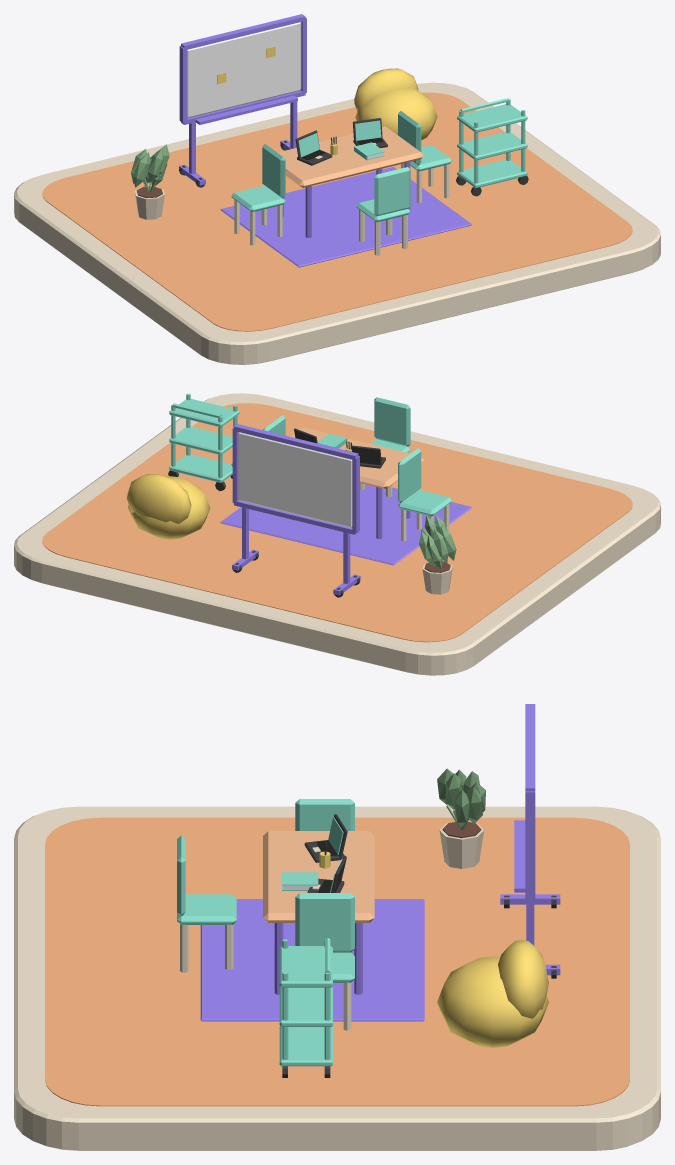
The model's file is room.fbx.
The picture shows the model from 3 angles, top to bottom: view 1: azimuth 30°, elevation 25°; view 2: azimuth 150°, elevation 25°; view 3: azimuth 270°, elevation 25°; orthographic projection. The views are drawn at different scales.
Parts seen in each view (by area): view 1: COM-02 Floor Surface, COM-01 Rounded Base Direct, Rug, Writing surface, Rounded table top, Beanbag shell, Pot, Backrest.002, Back bolster, Tray.002, Tray.001, Tray (+8 smaller); view 2: COM-02 Floor Surface, COM-01 Rounded Base Direct, Writing surface, Rug, Back bolster, Pot, Beanbag shell, Backrest.002, Rounded table top, Tray, Tray.001, Tray.002 (+7 smaller); view 3: COM-02 Floor Surface, COM-01 Rounded Base Direct, Rug, Rounded table top, Beanbag shell, Pot, Backrest.001, Back bolster, Tray.002, Tray, Tray.001, Backrest (+6 smaller).
Part boxes in pixels (x1,y1,x2,y2): COM-02 Floor Surface: (42,92,632,331); COM-01 Rounded Base Direct: (14,82,660,364); Rug: (220,167,471,267); Writing surface: (187,22,301,118); Rounded table top: (277,126,423,187); Beanbag shell: (355,87,437,140); Pot: (131,144,169,219); Backrest.002: (374,167,410,216); Back bolster: (354,68,418,111); Tray.002: (457,104,527,132); Tray.001: (457,132,527,160); Tray: (457,159,527,188); COM-02 Floor Surface: (42,403,632,642); COM-01 Rounded Base Direct: (14,393,660,675); Writing surface: (238,432,352,527); Rug: (220,484,471,565); Back bolster: (126,474,191,523); Pot: (419,515,456,594); Beanbag shell: (128,476,210,539); Backrest.002: (374,397,410,446); Rounded table top: (290,427,423,488); Tray: (169,454,232,482); Tray.001: (169,426,232,454); Tray.002: (169,399,239,427); COM-02 Floor Surface: (45,817,629,1106); COM-01 Rounded Base Direct: (14,806,660,1150); Rug: (200,899,424,1021); Rounded table top: (263,831,374,922); Beanbag shell: (437,956,548,1047); Pot: (437,768,485,868); Backrest.001: (295,893,354,952); Back bolster: (498,939,548,1018); Tray.002: (279,946,332,987); Tray: (279,1026,332,1066); Tray.001: (279,986,332,1026); Backrest: (295,799,354,830).
Size of the model in its own units: 600 by 204 by 520.
